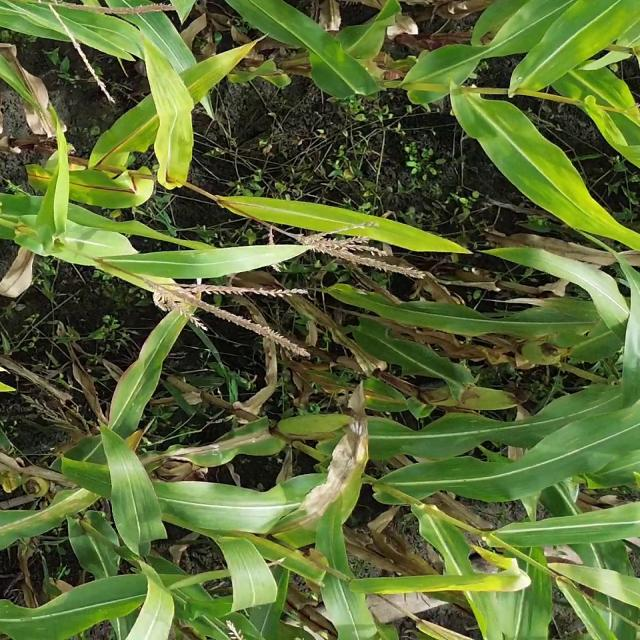northern-leaf-blight: (122, 408, 275, 482)
southern-leaf-blight: (0, 473, 96, 554)
